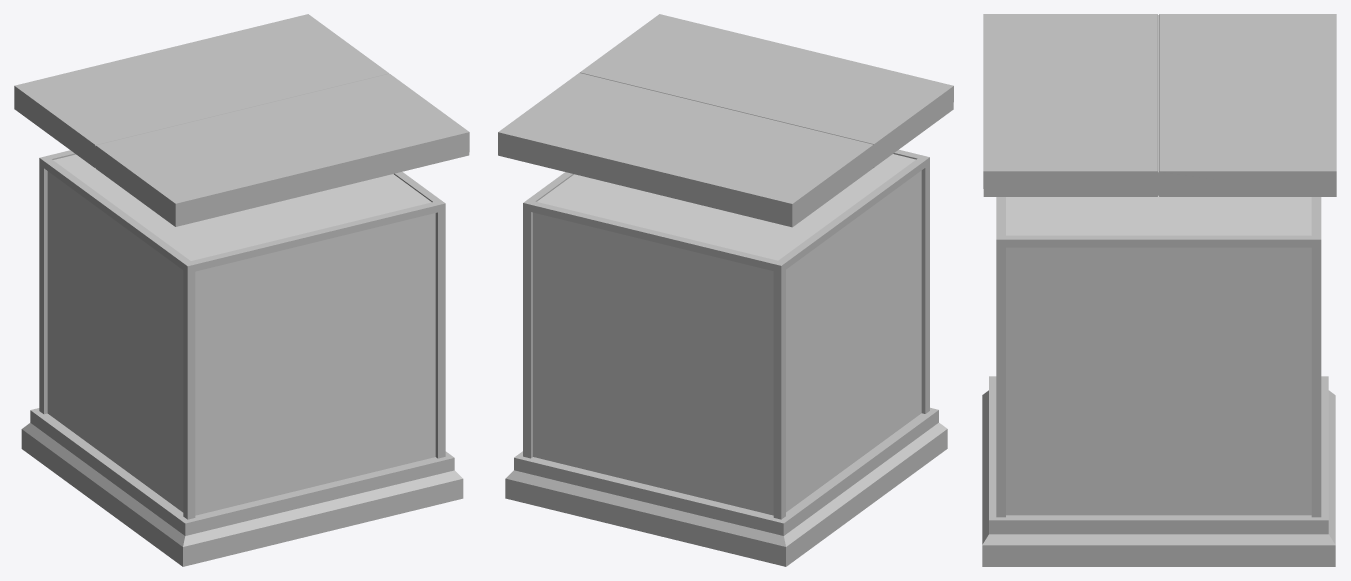
File: fuhuaxiang.FBX
The picture shows the model from 3 angles, left to right: view 1: azimuth 30°, elevation 25°; view 2: azimuth 150°, elevation 25°; view 3: azimuth 270°, elevation 25°; orthographic projection. The views are drawn at different scales.
Parts seen in each view (by area): view 1: glass, shiyanshi02, shiyanshi01, fuhuaxiang, fuhuaxiang01, glass01; view 2: glass, shiyanshi01, shiyanshi02, fuhuaxiang, fuhuaxiang01, glass01; view 3: glass, shiyanshi01, shiyanshi02, fuhuaxiang, glass01, fuhuaxiang01.
Boxes of the visible parts, <box> form: glass: <box>47,171,435,515</box>; shiyanshi02: <box>95,74,469,226</box>; shiyanshi01: <box>14,14,389,168</box>; fuhuaxiang: <box>21,408,463,566</box>; fuhuaxiang01: <box>39,150,445,519</box>; glass01: <box>53,154,431,260</box>; glass: <box>533,170,921,515</box>; shiyanshi01: <box>498,73,873,227</box>; shiyanshi02: <box>579,14,953,167</box>; fuhuaxiang: <box>505,407,947,566</box>; fuhuaxiang01: <box>523,149,929,519</box>; glass01: <box>537,154,915,260</box>; glass: <box>1006,247,1311,515</box>; shiyanshi01: <box>1158,14,1336,196</box>; shiyanshi02: <box>983,14,1158,196</box>; fuhuaxiang: <box>982,376,1335,566</box>; glass01: <box>1006,195,1311,235</box>; fuhuaxiang01: <box>996,197,1321,517</box>.
Bounding box in the file's own units: 54.47 × 64.55 × 51.92.
